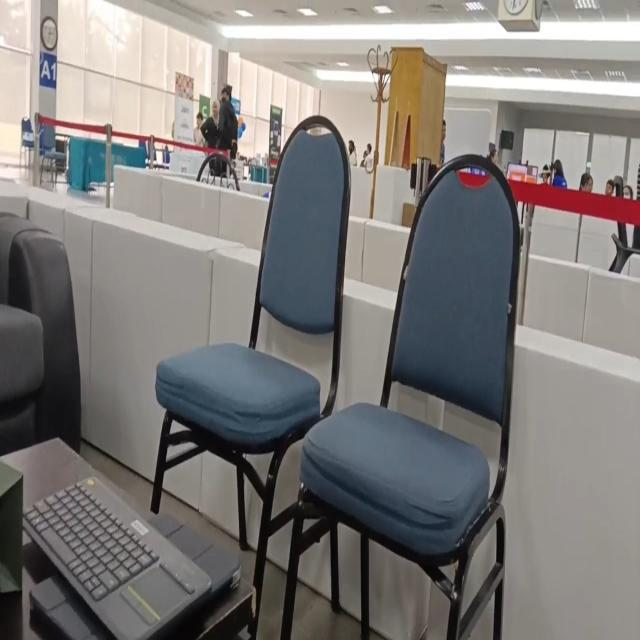sandalye: (282, 155, 520, 640), (151, 116, 349, 640)
